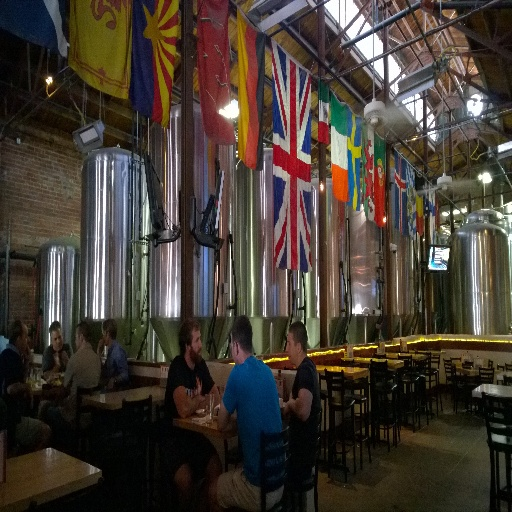hand: (26, 384, 33, 410), (23, 344, 32, 359), (61, 349, 68, 366), (106, 375, 114, 388), (282, 400, 288, 417), (98, 338, 102, 350), (200, 395, 206, 402)
